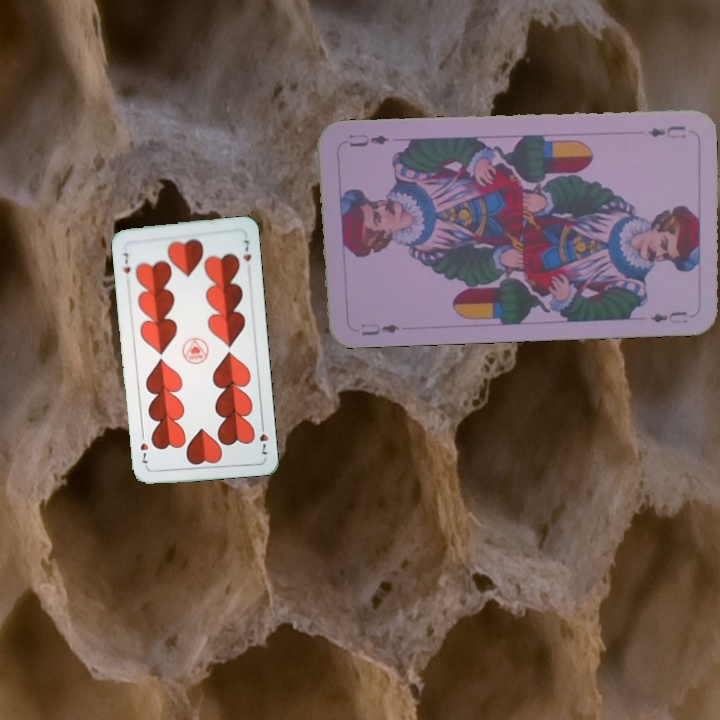EU: (357, 319, 402, 338), (644, 122, 688, 141)
H7: (255, 418, 271, 457), (119, 249, 133, 276)
